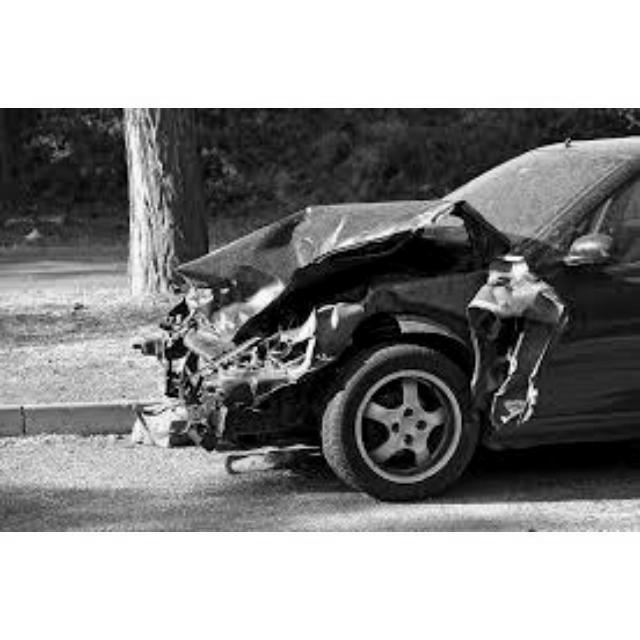bonnet-dent: (177, 190, 494, 289)
fender-dent: (362, 283, 503, 352)
